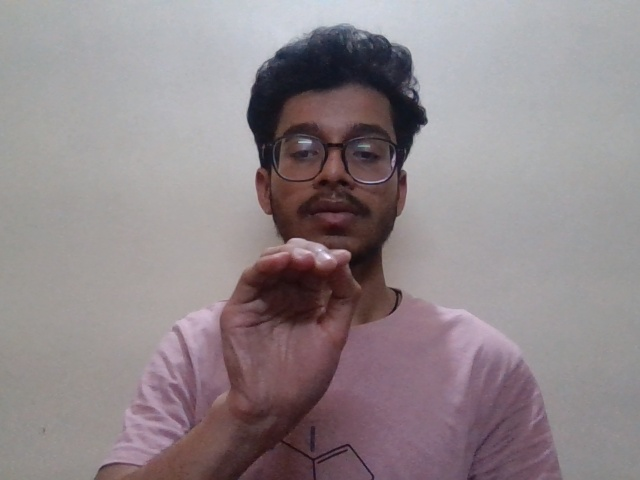sound: (220, 234, 372, 434)
